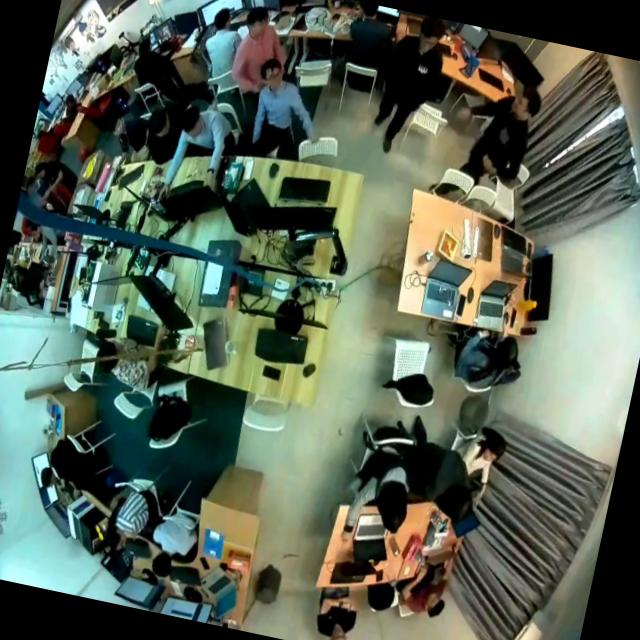employee_tag: (414, 62, 430, 76)
